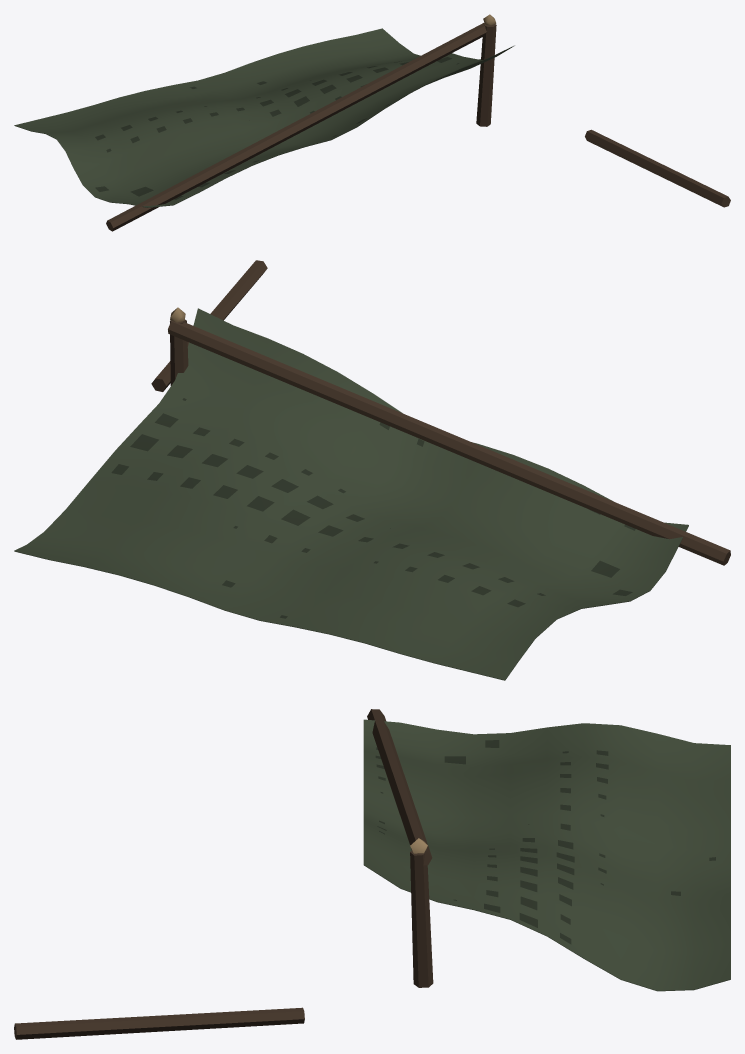
File: lean_to_fallen.glb
3 renders of one model, top to bottom at view 1: azimuth 30°, elevation 25°; view 2: azimuth 150°, elevation 25°; view 3: azimuth 270°, elevation 25°, orthographic. The views are drawn at different scales.
Parts seen in each view (by area): view 1: lean_to_fallen; view 2: lean_to_fallen; view 3: lean_to_fallen.
Boxes of the visible parts, <box> form: lean_to_fallen: <box>14,14,730,231</box>; lean_to_fallen: <box>14,260,730,680</box>; lean_to_fallen: <box>14,709,730,1039</box>.
Size of the model in its own units: 3.19 by 0.686 by 2.99.
